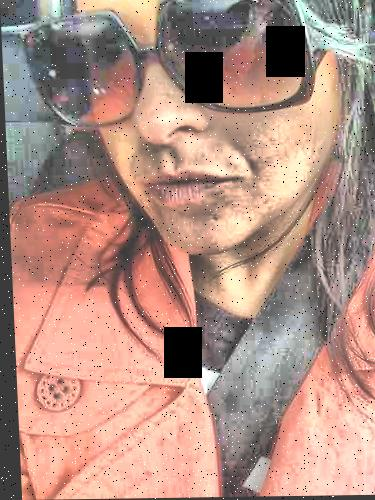seatbelt: (197, 152, 375, 449)
